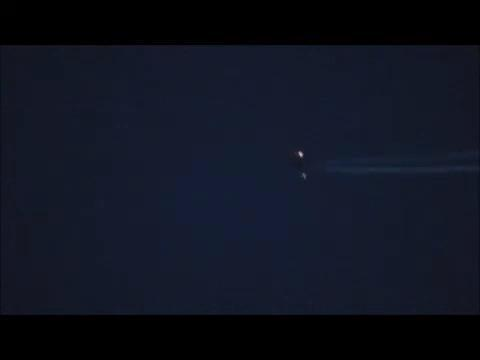Plane: (271, 138, 478, 194)
